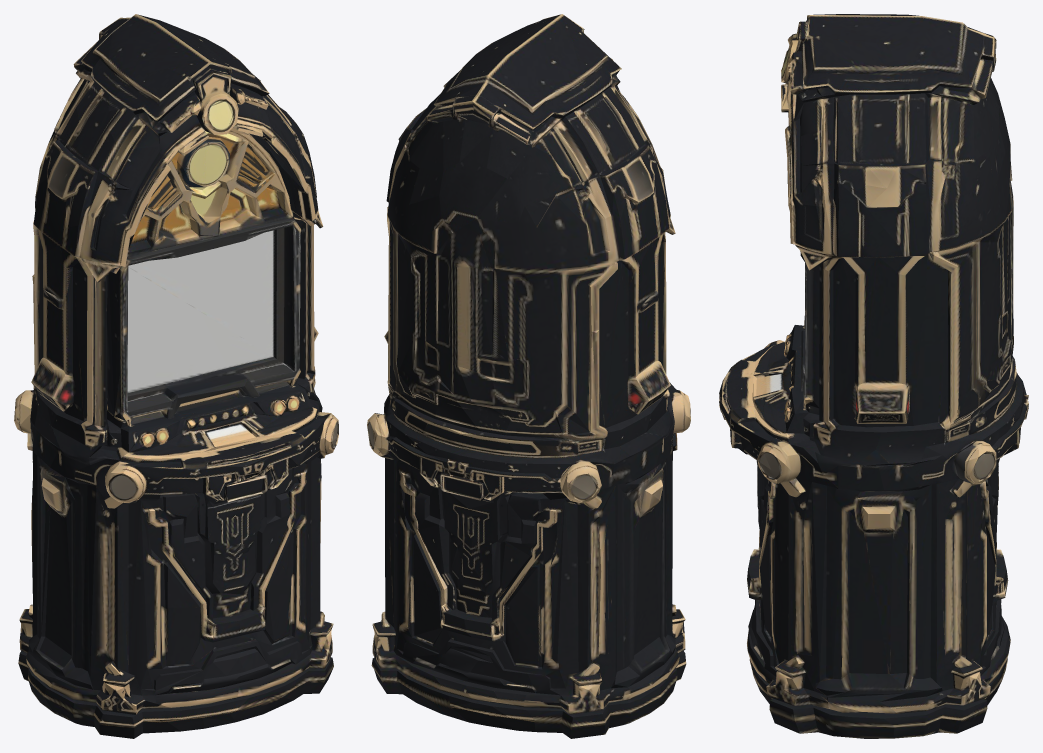
Rendered from kiosk_terminal.glb.
The picture shows the model from 3 angles, left to right: view 1: azimuth 30°, elevation 25°; view 2: azimuth 150°, elevation 25°; view 3: azimuth 270°, elevation 25°; orthographic projection. The views are drawn at different scales.
Parts seen in each view (by area): view 1: output_unwrapped; view 2: output_unwrapped; view 3: output_unwrapped.
Part boxes in pixels (left/top/right/bottom): output_unwrapped: left=14, top=14, right=338, bottom=738; output_unwrapped: left=367, top=14, right=690, bottom=738; output_unwrapped: left=719, top=14, right=1028, bottom=738.
Size of the model in its own units: 0.8258 by 1.9 by 0.8038.
1 material, 1 textured.
